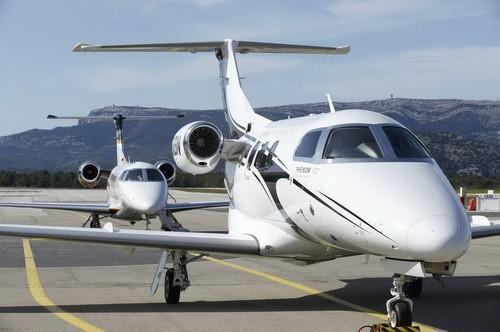airplane: (72, 36, 476, 304), (5, 113, 223, 216)
